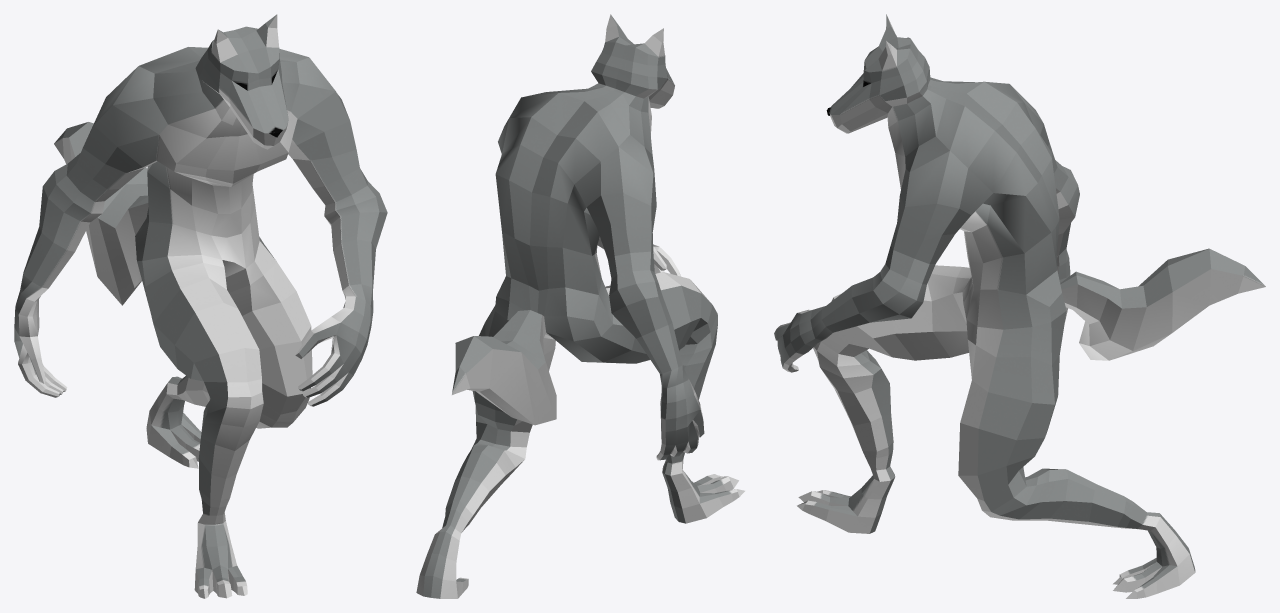
Rendered from WolfWalk(28).obj.
3 views of the same model, side by side, from view 1: azimuth 30°, elevation 25°; view 2: azimuth 150°, elevation 25°; view 3: azimuth 270°, elevation 25° (orthographic). The views are drawn at different scales.
Visible parts, largest first — view 1: Box001; view 2: Box001; view 3: Box001.
Boxes of the visible parts, x1,y1,x2,y2 form: Box001: (14,14,387,598); Box001: (416,14,744,598); Box001: (774,14,1265,598).
Size of the model in its own units: 71.99 by 132 by 112.
